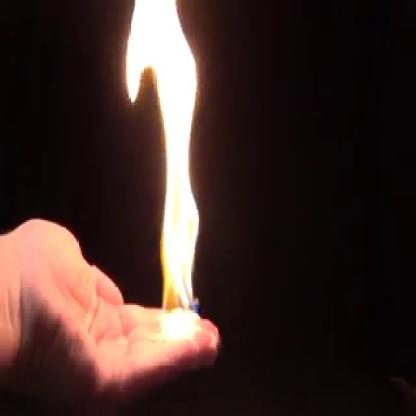fire: (121, 0, 212, 348)
